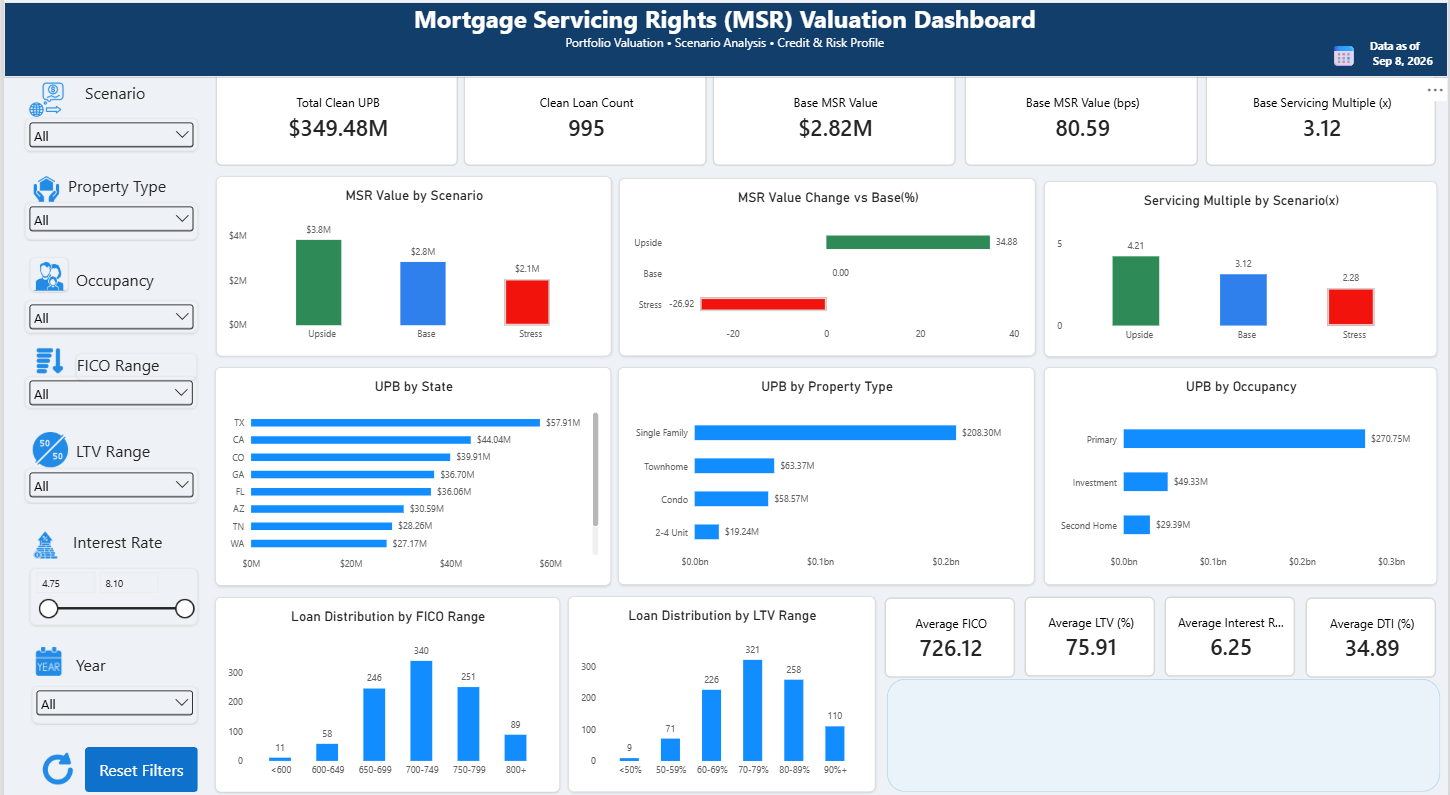

Layout of this report page (visuals, bound fields, positions):
{"tool":"powerbi","page":{"name":"Page 1","canvas":[1920,1080],"ordinal":0},"visuals":[{"type":"cardVisual","fields":{"Data":["public clean_loans.Base MSR Value"]},"box":[941.4,100,325,131.4],"z":0,"group":"g1"},{"type":"clusteredColumnChart","title":"MSR Value by Scenario","fields":{"Category":["public msr_scenario_summary.scenario"],"Y":["Sum(public msr_scenario_summary.total_msr_value)"]},"box":[281.4,242.9,525.7,240.5],"z":0,"group":"g3"},{"type":"cardVisual","fields":{"Data":["Avg(public clean_loans.fico_score)"]},"box":[1170.3,802.9,175,108.6],"z":0},{"type":"cardVisual","fields":{"Data":["public clean_loans.Base MSR Value(bps)"]},"box":[1275.7,100,312.9,131.4],"z":1000,"group":"g1"},{"type":"clusteredBarChart","title":"MSR Value Change vs Base(%)","fields":{"Category":["public msr_scenario_summary.scenario"],"Y":["Sum(public msr_scenario_summary.pct_change_vs_base)"]},"box":[817.5,245.8,554.3,237.1],"z":1000,"group":"g2"},{"type":"cardVisual","fields":{"Data":["Avg(public clean_loans.ltv_pct)"]},"box":[1356.9,801.4,175,108.6],"z":1000},{"type":"cardVisual","fields":{"Data":["public clean_loans.Base Servicing Multiple"]},"box":[1597.1,100,308.6,131.4],"z":2000,"group":"g1"},{"type":"clusteredColumnChart","title":"Servicing Multiple by Scenario(x)","fields":{"Category":["public msr_scenario_summary.scenario"],"Y":["Sum(public msr_scenario_summary.servicing_multiple)"]},"box":[1382.2,249.1,522.9,234.3],"z":2000,"group":"g3"},{"type":"cardVisual","fields":{"Data":["Avg(public clean_loans.interest_rate)"]},"box":[1543.4,801.4,175,108.6],"z":2000},{"type":"clusteredBarChart","title":"UPB by State","fields":{"Category":["public clean_loans.property_state"],"Y":["Sum(public clean_loans.current_balance)"]},"box":[280,497.1,527.1,291.4],"z":3000},{"type":"clusteredBarChart","title":"UPB by Property Type","fields":{"Category":["public clean_loans.property_type"],"Y":["Sum(public clean_loans.current_balance)"]},"box":[817.1,497.1,554.3,290],"z":4000},{"type":"clusteredBarChart","title":"UPB by Occupancy","fields":{"Category":["public clean_loans.occupancy"],"Y":["Sum(public clean_loans.current_balance)"]},"box":[1382.9,497.1,522.9,290],"z":5000},{"type":"cardVisual","fields":{"Data":["public clean_loans.Total Clean UPB"]},"box":[280,100,324,131.4],"z":6000,"group":"g1"},{"type":"clusteredColumnChart","title":"Loan Distribution by FICO Range","fields":{"Category":["public clean_loans.FICO Range"],"Y":["CountNonNull(public clean_loans.loan_id)"]},"box":[280,802.9,458.6,260],"z":6000},{"type":"cardVisual","fields":{"Data":["public clean_loans.Clean Loan Count"]},"box":[610,100,325,131.4],"z":7000,"group":"g1"},{"type":"clusteredColumnChart","title":"Loan Distribution by LTV Range","fields":{"Category":["public clean_loans.LTV Range"],"Y":["CountNonNull(public clean_loans.loan_id)"]},"box":[750,801.4,408.6,261.4],"z":7000},{"type":"cardVisual","fields":{"Data":["Avg(public clean_loans.dti_pct)"]},"box":[1730,802.9,175.7,108.6],"z":8000},{"type":"textbox","box":[1670,435,168,299],"z":9000},{"type":"slicer","fields":{"Values":["public msr_scenario_summary.scenario"]},"box":[28.6,165.7,230,44.3],"z":10000},{"type":"slicer","fields":{"Values":["public clean_loans.property_type"]},"box":[28.6,278.6,230,50],"z":11000},{"type":"slicer","fields":{"Values":["public clean_loans.occupancy"]},"box":[28.6,408.6,230,44.3],"z":12000},{"type":"slicer","fields":{"Values":["public clean_loans.FICO Range"]},"box":[28.6,510,228.6,42.9],"z":13000},{"type":"slicer","fields":{"Values":["public clean_loans.origination_date.Variation.Date Hierarchy.Year"]},"box":[37.1,921.4,220,50],"z":14000},{"type":"slicer","fields":{"Values":["public clean_loans.LTV Range"]},"box":[28.6,631.4,230,45.7],"z":15000},{"type":"slicer","fields":{"Values":["public clean_loans.interest_rate"]},"box":[34.3,764.3,222.9,75.7],"z":16000},{"type":"image","box":[28.6,118.6,57.1,47.1],"z":17000},{"type":"textbox","box":[107.1,118.6,134.3,47.1],"z":18000},{"type":"image","box":[28.6,241.4,57.1,37.1],"z":19000},{"type":"textbox","box":[85.7,241.4,155.7,37.1],"z":20000},{"type":"image","box":[34.3,351.4,51.4,45.7],"z":21000},{"type":"textbox","box":[95.7,367.1,162.9,30],"z":22000},{"type":"image","box":[24.3,464.3,71.4,50],"z":23000},{"type":"textbox","box":[95.7,478.6,161.4,35.7],"z":24000},{"type":"image","box":[37.1,584.3,48.6,47.1],"z":25000},{"type":"textbox","box":[95.7,594.3,145.7,37.1],"z":26000},{"type":"image","box":[25.7,715.7,60,37.1],"z":27000},{"type":"textbox","box":[91.4,715.7,165.7,37.1],"z":28000},{"type":"image","box":[28.6,868.6,62.9,41.4],"z":29000},{"type":"textbox","box":[95.7,878.6,130,31.4],"z":30000},{"type":"actionButton","box":[107.1,1002.9,150,60],"z":31000},{"type":"image","box":[34.3,1002.9,74.3,60],"z":32000},{"type":"group","id":"g1","title":"Group 1","box":[280,100,1625.7,131.4],"z":33000},{"type":"group","id":"g2","title":"Group 2","box":[281.4,242.9,1623.7,240.5],"z":34000},{"type":"shape","box":[0,11.4,1920,100],"z":35000},{"type":"group","id":"g3","title":"Group 3","box":[281.4,242.9,1623.7,240.5],"z":35001,"group":"g2"},{"type":"textbox","box":[510,11.4,898.6,88.6],"z":36000},{"type":"textbox","box":[1764.3,28.6,42.9,82.9],"z":37000},{"type":"textbox","box":[1817.1,61.4,88.6,50],"z":38000},{"type":"shape","box":[1174.3,912.9,735.7,150],"z":38001},{"type":"textbox","box":[259,279,267,150],"z":38002}]}

Visuals, with their boxes in screenshot pixels (x1, y1, x2, y2), scaled from the page's 1920x1080 canvas onto the 1450x795 screenshot:
cardVisual - public clean_loans.Base MSR Value: <bbox>711, 74, 956, 170</bbox>
"MSR Value by Scenario" clusteredColumnChart: <bbox>213, 179, 610, 356</bbox>
cardVisual - Avg(public clean_loans.fico_score): <bbox>884, 591, 1016, 671</bbox>
cardVisual - public clean_loans.Base MSR Value(bps): <bbox>963, 74, 1200, 170</bbox>
"MSR Value Change vs Base(%)" clusteredBarChart: <bbox>617, 181, 1036, 355</bbox>
cardVisual - Avg(public clean_loans.ltv_pct): <bbox>1025, 590, 1157, 670</bbox>
cardVisual - public clean_loans.Base Servicing Multiple: <bbox>1206, 74, 1439, 170</bbox>
"Servicing Multiple by Scenario(x)" clusteredColumnChart: <bbox>1044, 183, 1439, 356</bbox>
cardVisual - Avg(public clean_loans.interest_rate): <bbox>1166, 590, 1298, 670</bbox>
"UPB by State" clusteredBarChart: <bbox>211, 366, 610, 580</bbox>
"UPB by Property Type" clusteredBarChart: <bbox>617, 366, 1036, 579</bbox>
"UPB by Occupancy" clusteredBarChart: <bbox>1044, 366, 1439, 579</bbox>
cardVisual - public clean_loans.Total Clean UPB: <bbox>211, 74, 456, 170</bbox>
"Loan Distribution by FICO Range" clusteredColumnChart: <bbox>211, 591, 558, 782</bbox>
cardVisual - public clean_loans.Clean Loan Count: <bbox>461, 74, 706, 170</bbox>
"Loan Distribution by LTV Range" clusteredColumnChart: <bbox>566, 590, 875, 782</bbox>
cardVisual - Avg(public clean_loans.dti_pct): <bbox>1307, 591, 1439, 671</bbox>
textbox: <bbox>1261, 320, 1388, 540</bbox>
slicer - public msr_scenario_summary.scenario: <bbox>22, 122, 195, 155</bbox>
slicer - public clean_loans.property_type: <bbox>22, 205, 195, 242</bbox>
slicer - public clean_loans.occupancy: <bbox>22, 301, 195, 333</bbox>
slicer - public clean_loans.FICO Range: <bbox>22, 375, 194, 407</bbox>
slicer - public clean_loans.origination_date.Variation.Date Hierarchy.Year: <bbox>28, 678, 194, 715</bbox>
slicer - public clean_loans.LTV Range: <bbox>22, 465, 195, 498</bbox>
slicer - public clean_loans.interest_rate: <bbox>26, 563, 194, 618</bbox>
image: <bbox>22, 87, 65, 122</bbox>
textbox: <bbox>81, 87, 182, 122</bbox>
image: <bbox>22, 178, 65, 205</bbox>
textbox: <bbox>65, 178, 182, 205</bbox>
image: <bbox>26, 259, 65, 292</bbox>
textbox: <bbox>72, 270, 195, 292</bbox>
image: <bbox>18, 342, 72, 379</bbox>
textbox: <bbox>72, 352, 194, 379</bbox>
image: <bbox>28, 430, 65, 465</bbox>
textbox: <bbox>72, 437, 182, 465</bbox>
image: <bbox>19, 527, 65, 554</bbox>
textbox: <bbox>69, 527, 194, 554</bbox>
image: <bbox>22, 639, 69, 670</bbox>
textbox: <bbox>72, 647, 170, 670</bbox>
actionButton: <bbox>81, 738, 194, 782</bbox>
image: <bbox>26, 738, 82, 782</bbox>
"Group 1" group: <bbox>211, 74, 1439, 170</bbox>
"Group 2" group: <bbox>213, 179, 1439, 356</bbox>
shape: <bbox>0, 8, 1449, 82</bbox>
"Group 3" group: <bbox>213, 179, 1439, 356</bbox>
textbox: <bbox>385, 8, 1064, 74</bbox>
textbox: <bbox>1332, 21, 1365, 82</bbox>
textbox: <bbox>1372, 45, 1439, 82</bbox>
shape: <bbox>887, 672, 1442, 782</bbox>
textbox: <bbox>196, 205, 397, 316</bbox>
